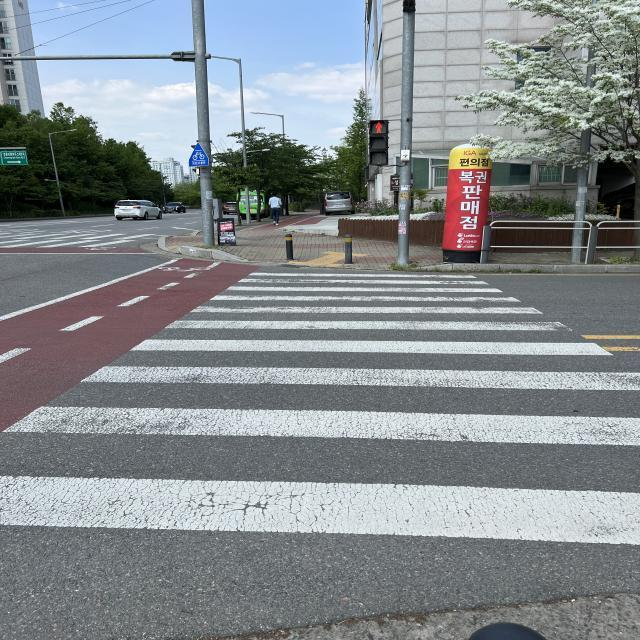crosswalk: (0, 253, 640, 596)
red-crossing: (365, 122, 395, 173)
